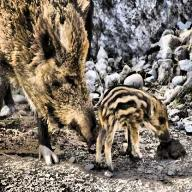boar: (10, 0, 101, 130), (96, 70, 168, 172)
